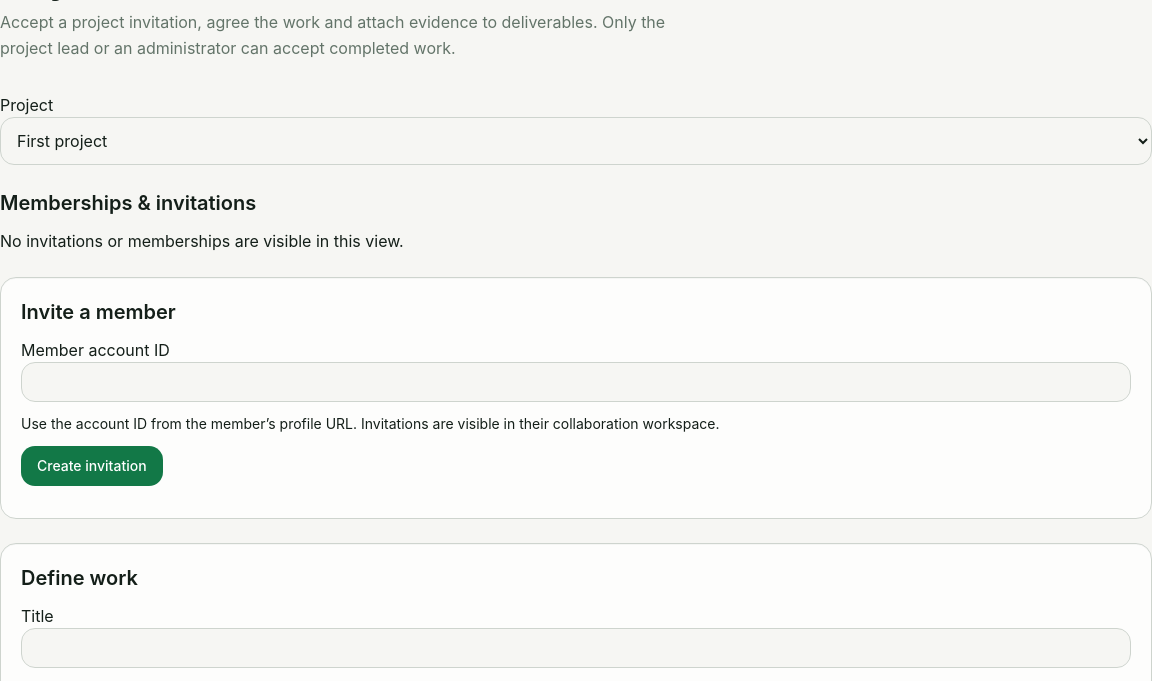
collaboration task creation › retains the draft after a failed creation
Type "Audit the baseline" into the field labelled "Title". click: [576, 648]
box: [21,628,1131,668]
(page scrolled)
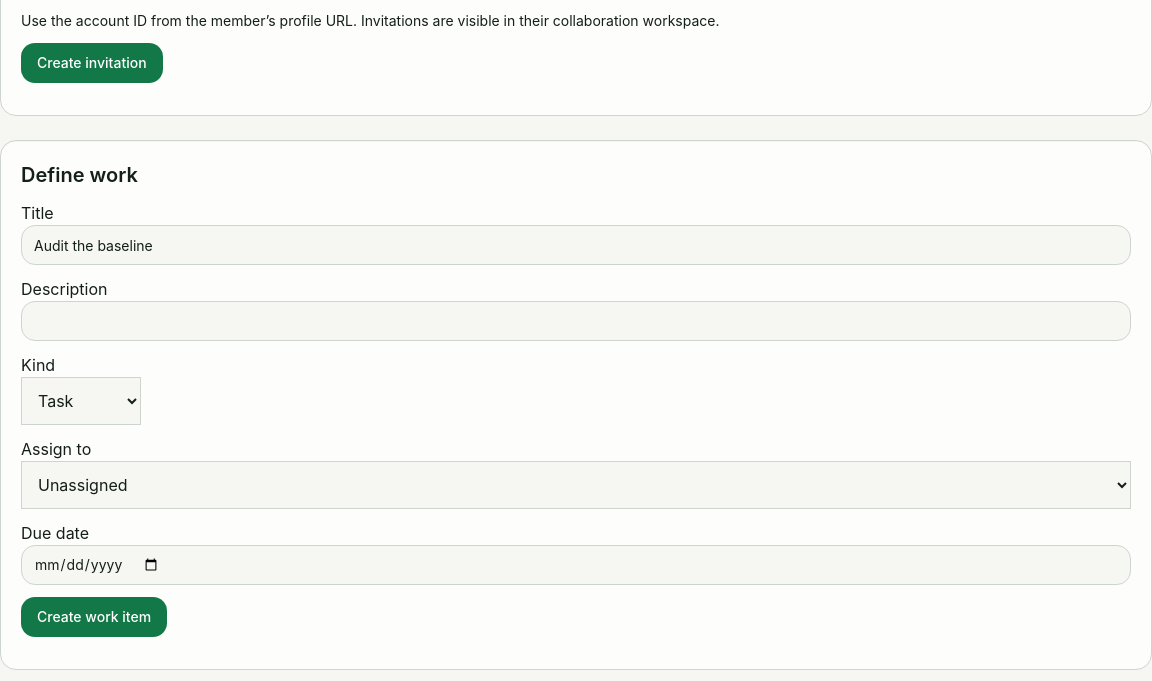
Type "Check timestamps and a frozen split" into the field labelled "Description". click: [576, 321]
box: [21,301,1131,341]
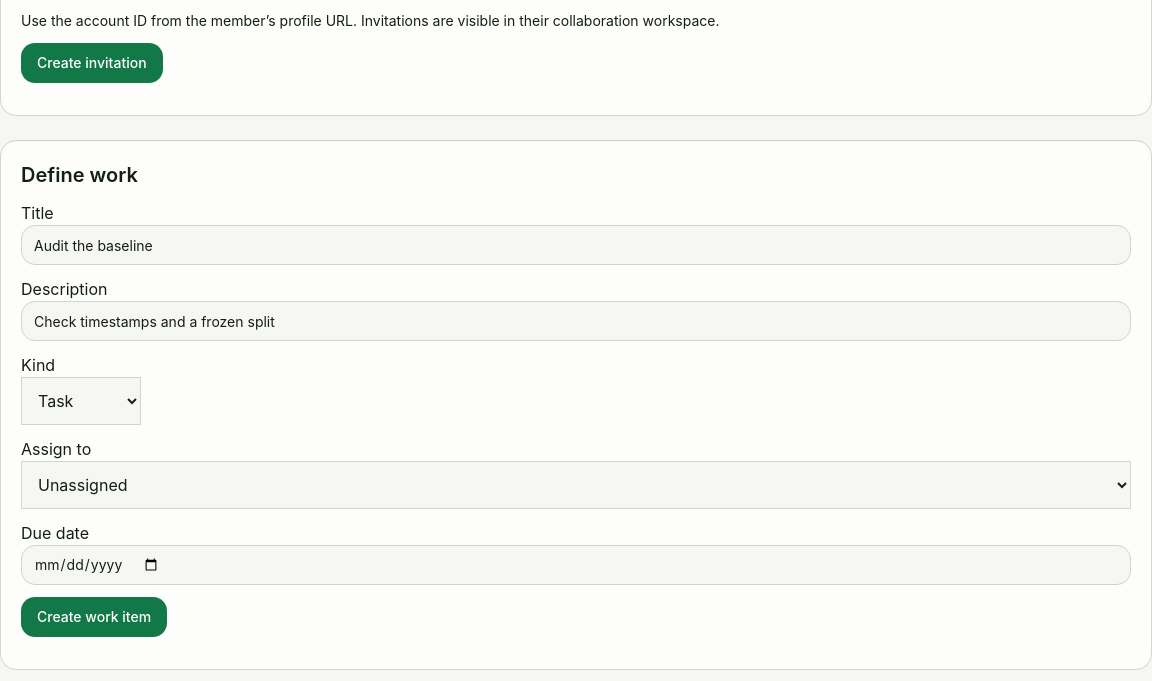
Click the button "Create work item". click: [94, 617]
box: [21,597,167,637]
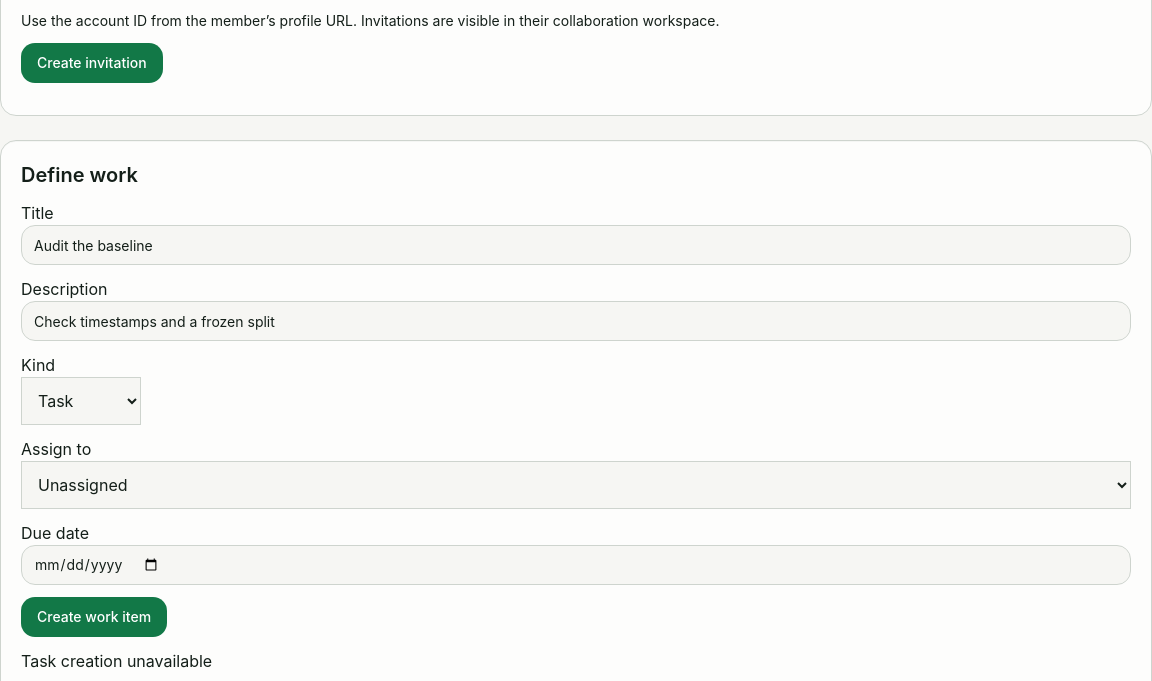
Now the text "Task creation unavailable" is shown, box [21,651,212,671]
